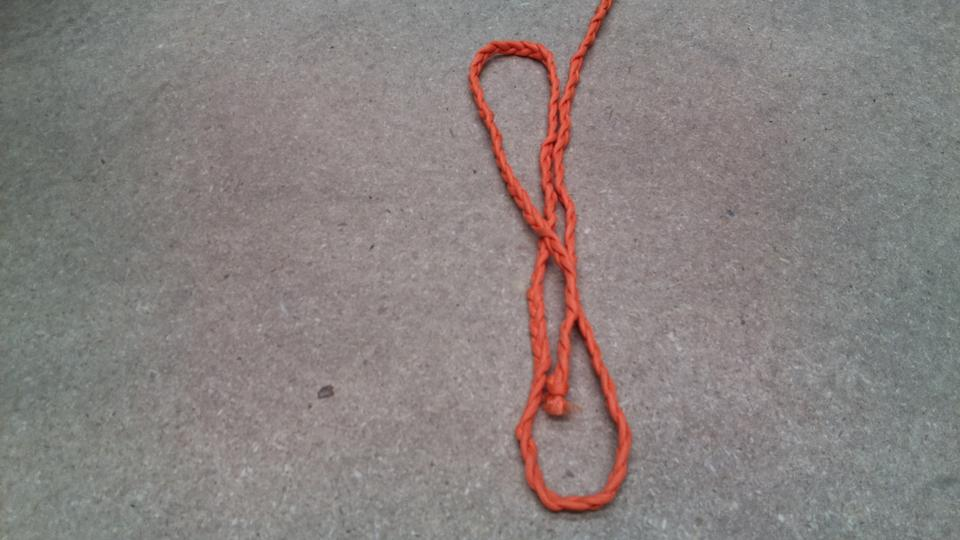rope: (464, 1, 635, 518)
